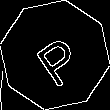P_NW: (26, 24, 84, 86)
